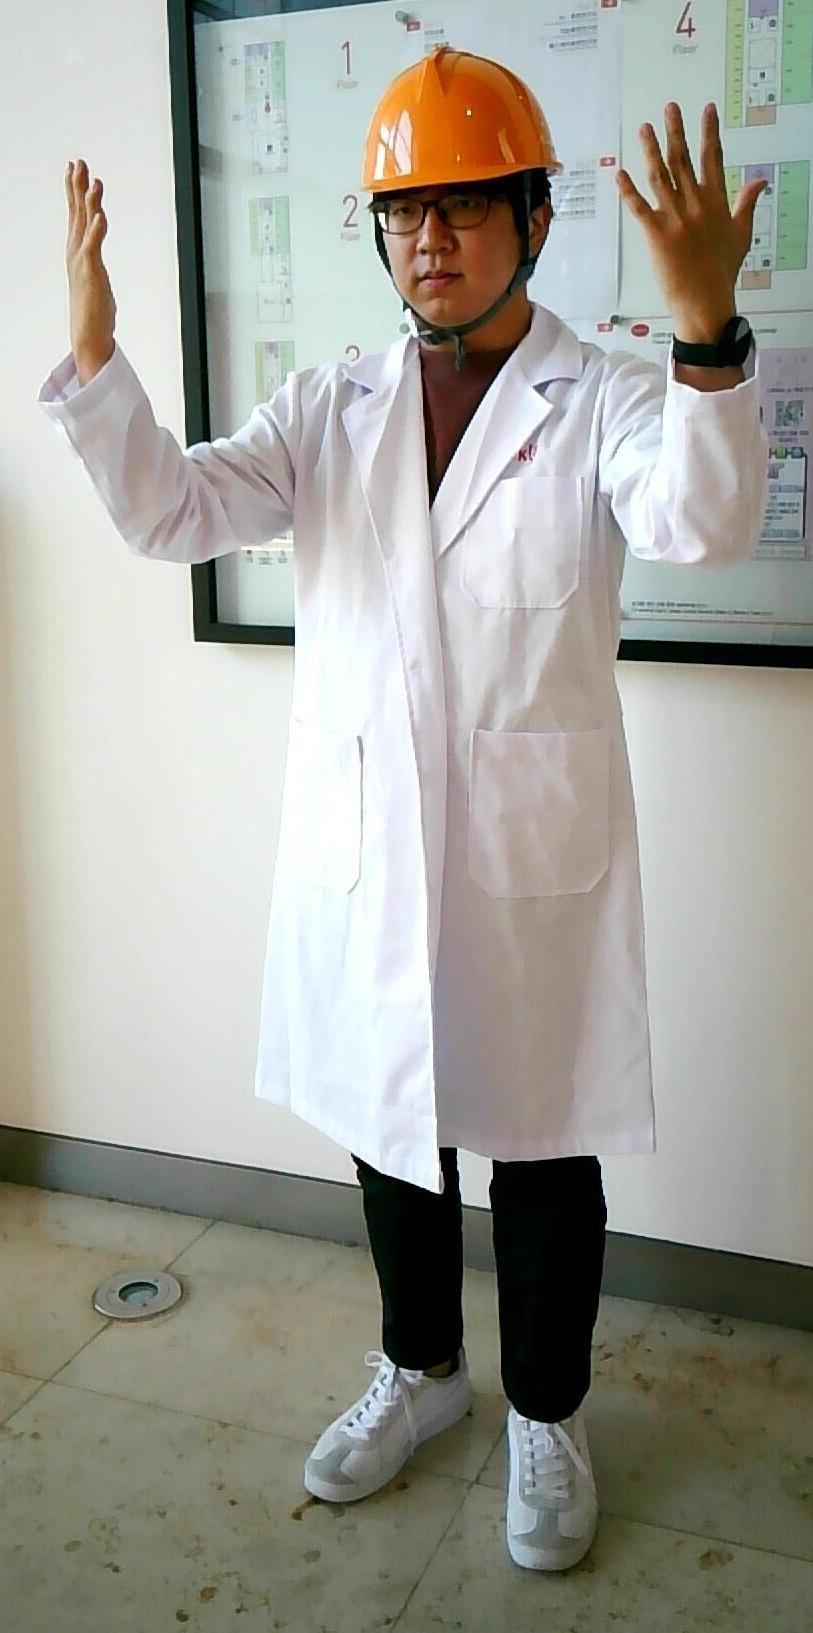lab_coat: (237, 354, 657, 1153)
